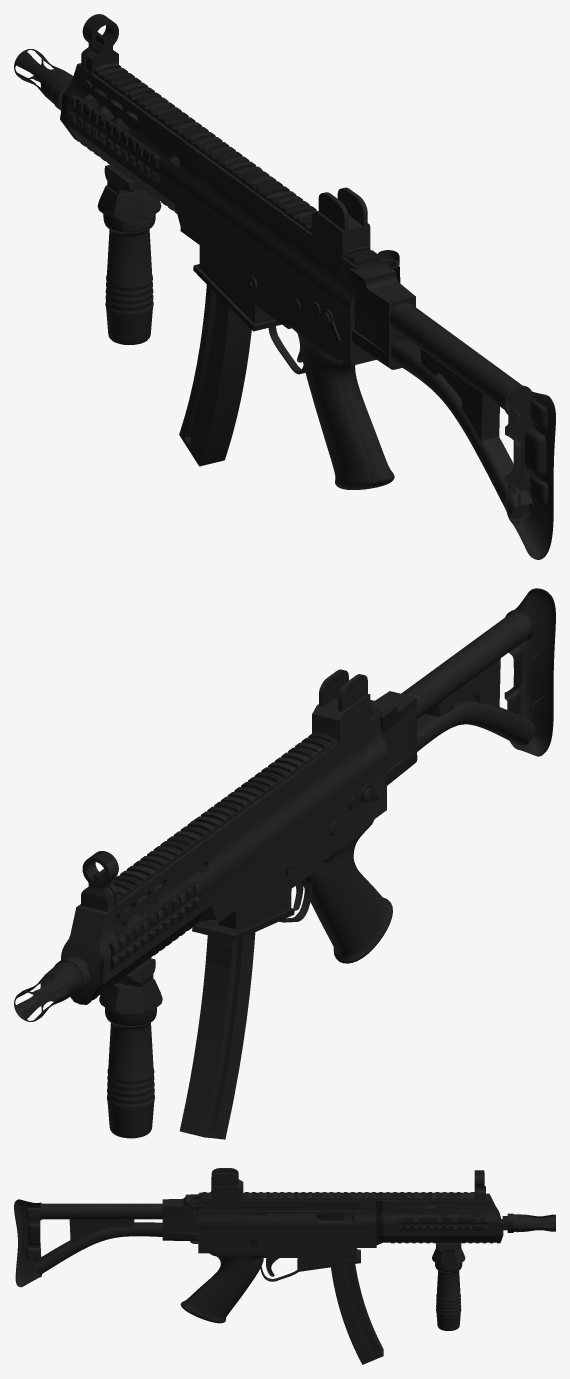
3 views of the same model, one above another, from view 1: azimuth 30°, elevation 25°; view 2: azimuth 150°, elevation 25°; view 3: azimuth 270°, elevation 25° (orthographic). The views are drawn at different scales.
Visible parts, largest first — view 1: PM3; view 2: PM3; view 3: PM3.
Boxes of the visible parts, box(x1,y1,x2,y2) form: PM3: box(14, 14, 555, 559); PM3: box(14, 588, 555, 1139); PM3: box(14, 1168, 555, 1364).
Size of the model in its own units: 46.27 by 251 by 647.
Materials: 1 (1 with a texture image).
